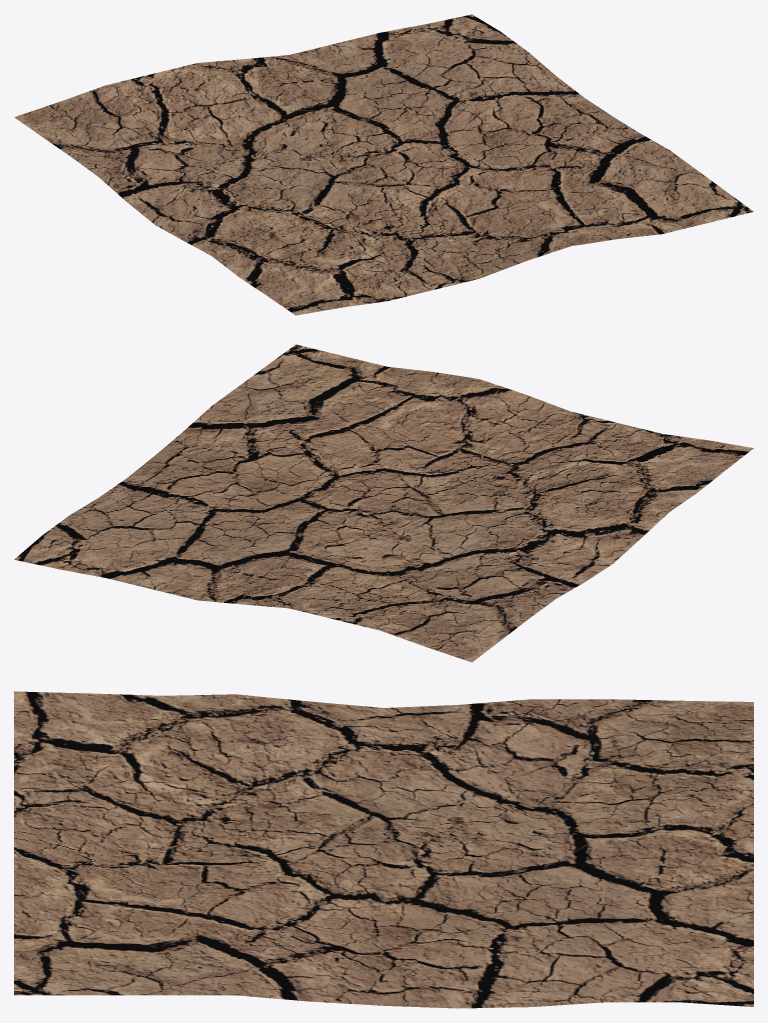
File: Plain_Dirt.fbx
The picture shows the model from 3 angles, top to bottom: view 1: azimuth 30°, elevation 25°; view 2: azimuth 150°, elevation 25°; view 3: azimuth 270°, elevation 25°; orthographic projection. The views are drawn at different scales.
Visible parts, largest first — view 1: Soil_Plain; view 2: Soil_Plain; view 3: Soil_Plain.
Part boxes in pixels (box(x1,y1,x2,y2)): Soil_Plain: box(14, 14, 753, 315); Soil_Plain: box(14, 344, 753, 662); Soil_Plain: box(14, 691, 753, 1008).
Bounding box in the file's own units: 111 × 4.67 × 118.
